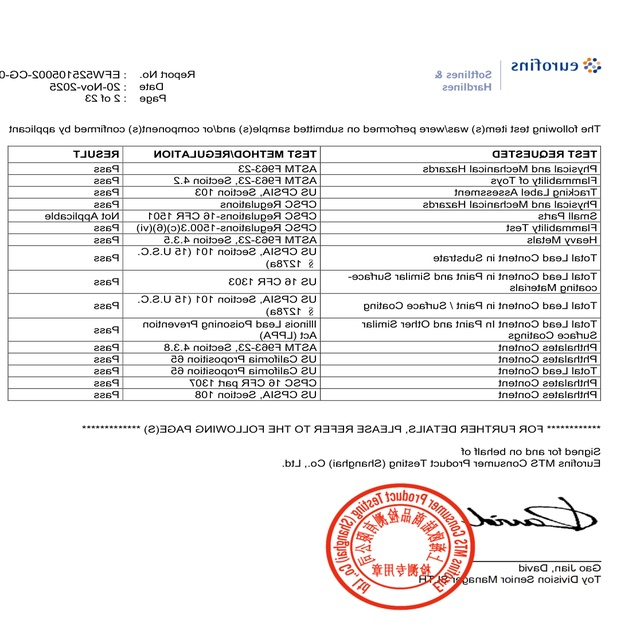eurofins: (507, 53, 607, 79)
